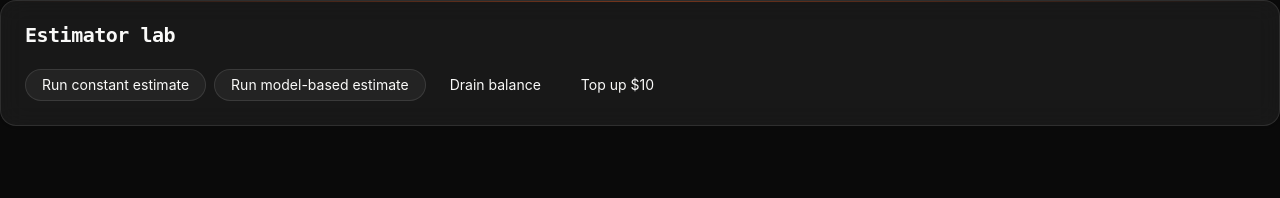
Scenario: LabRunner › runs the model-based estimate and reports the settled cost
Click the button "Run model-based estimate": (320, 85) 214,69 -> 426,101
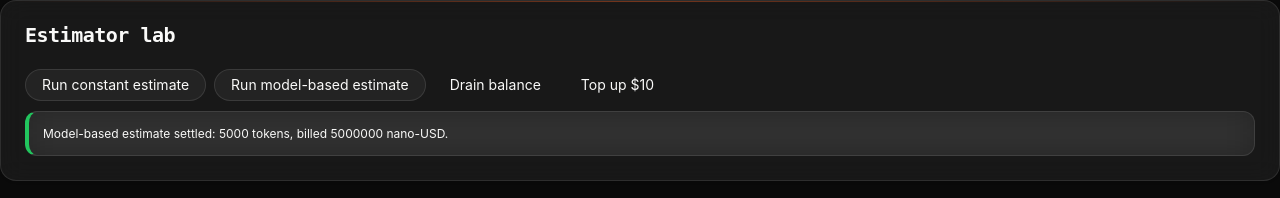
Expected: the text "Model-based estimate settled: 5000 tokens, billed 5000000 nano-USD." is shown, 25,111 -> 1255,156
